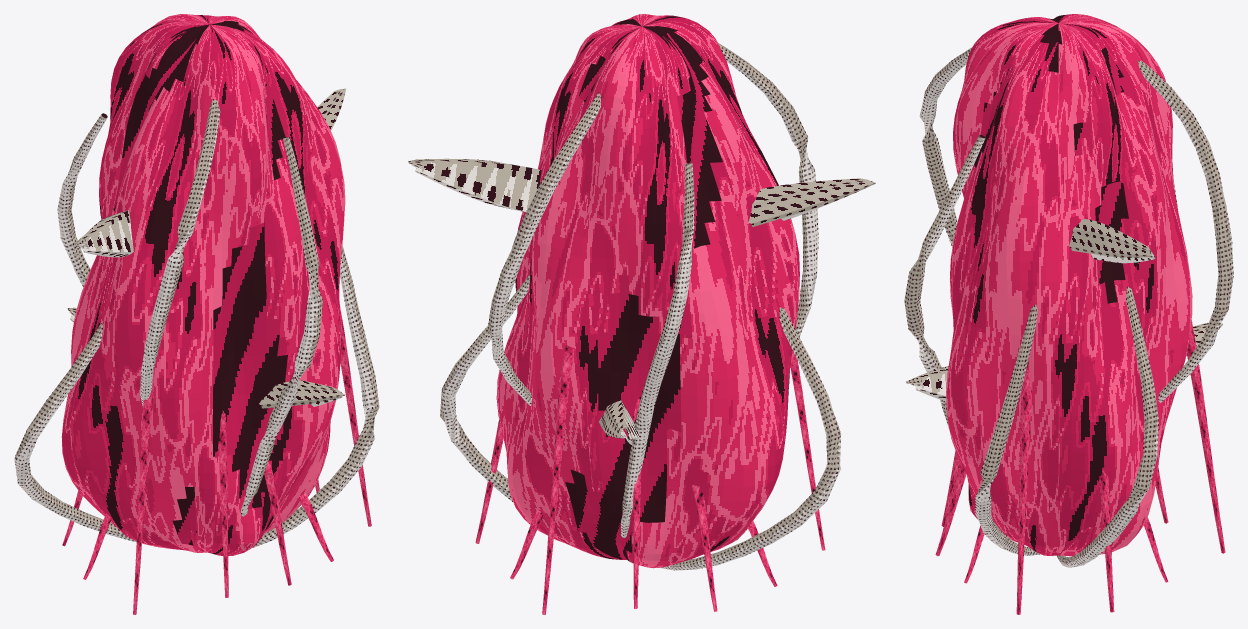
File: NIE-06_Nucleo_de_Colmena.gltf
The picture shows the model from 3 angles, left to right: view 1: azimuth 30°, elevation 25°; view 2: azimuth 150°, elevation 25°; view 3: azimuth 270°, elevation 25°; orthographic projection.
Visible parts, largest first — view 1: NIE-06_Nucleo_de_Colmena-col; view 2: NIE-06_Nucleo_de_Colmena-col; view 3: NIE-06_Nucleo_de_Colmena-col.
Boxes of the visible parts, x1=… form: NIE-06_Nucleo_de_Colmena-col: x1=14, y1=14, x2=379, y2=614; NIE-06_Nucleo_de_Colmena-col: x1=408, y1=14, x2=875, y2=614; NIE-06_Nucleo_de_Colmena-col: x1=904, y1=14, x2=1233, y2=614.
Bounding box in the file's own units: 4.55 × 6.01 × 3.43.
Materials: 1 (1 with a texture image).
